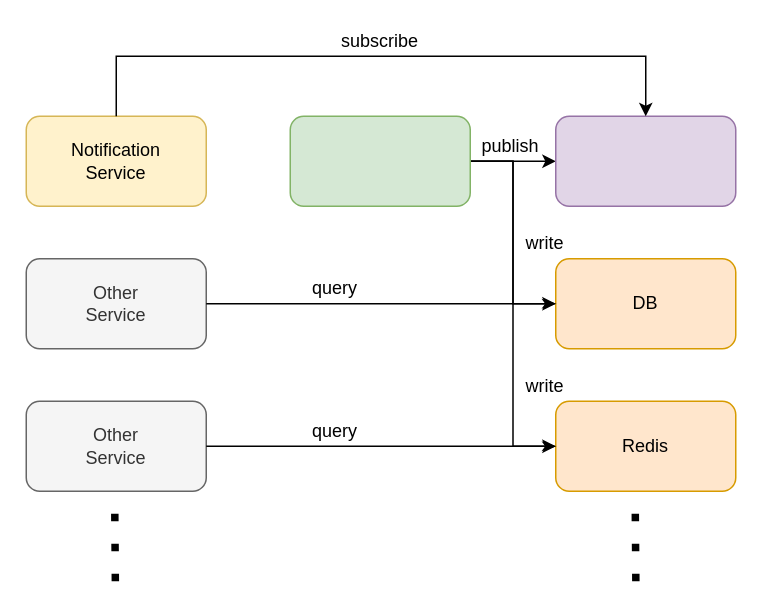
This 762x612 diagram has some shape labels left out. Here are the shapes that lost their labels. From the top down, the box of each, then its label:
(289, 115, 470, 206): Block Listener
(554, 115, 736, 206): Message Quere (ex RabbitMQ)
